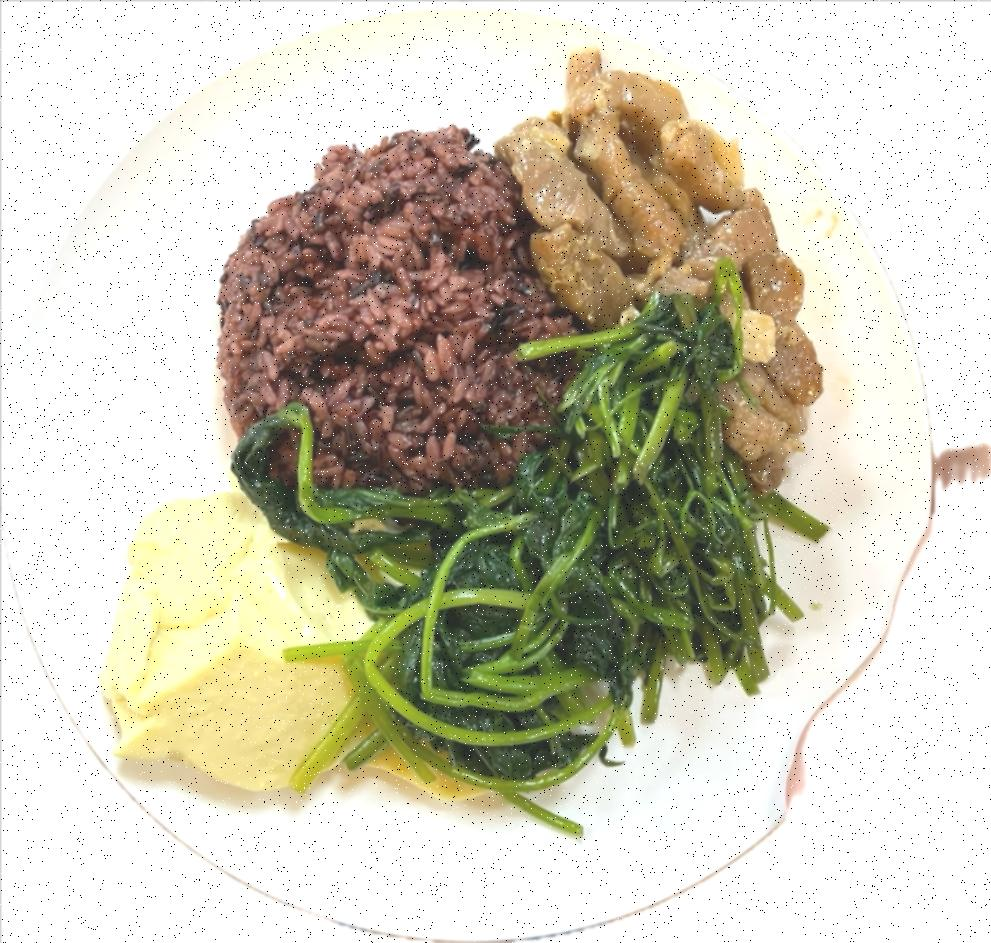big fried chicken leg: (7, 2, 946, 943)
braised fish: (206, 126, 560, 490)
braised fish fillet: (238, 281, 772, 802), (100, 490, 372, 790)
braised pork: (500, 43, 824, 468)
